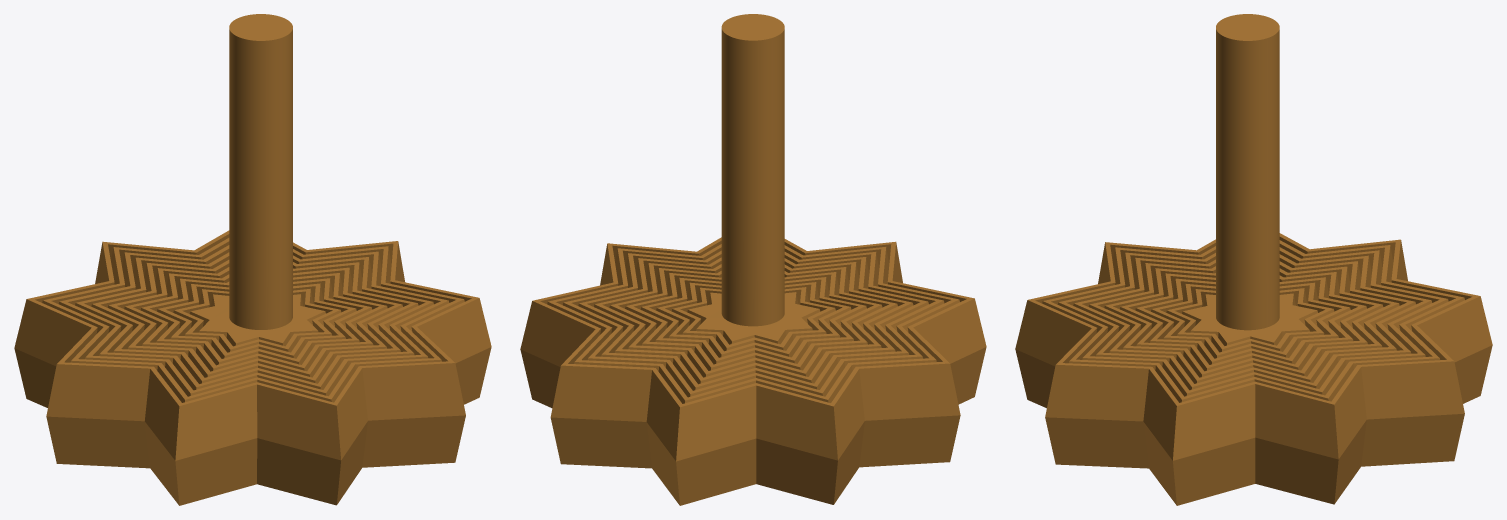
The model's file is star-fidget.glb.
3 renders of one model, left to right at view 1: azimuth 30°, elevation 25°; view 2: azimuth 150°, elevation 25°; view 3: azimuth 270°, elevation 25°, orthographic.
Visible parts, largest first — view 1: MeshBody2_fil1; view 2: MeshBody2_fil1; view 3: MeshBody2_fil1.
Boxes of the visible parts, <box> form: MeshBody2_fil1: <box>14,14,491,505</box>; MeshBody2_fil1: <box>520,14,986,505</box>; MeshBody2_fil1: <box>1015,14,1492,505</box>.
Size of the model in its own units: 0.0893 by 0.0819 by 0.091.
